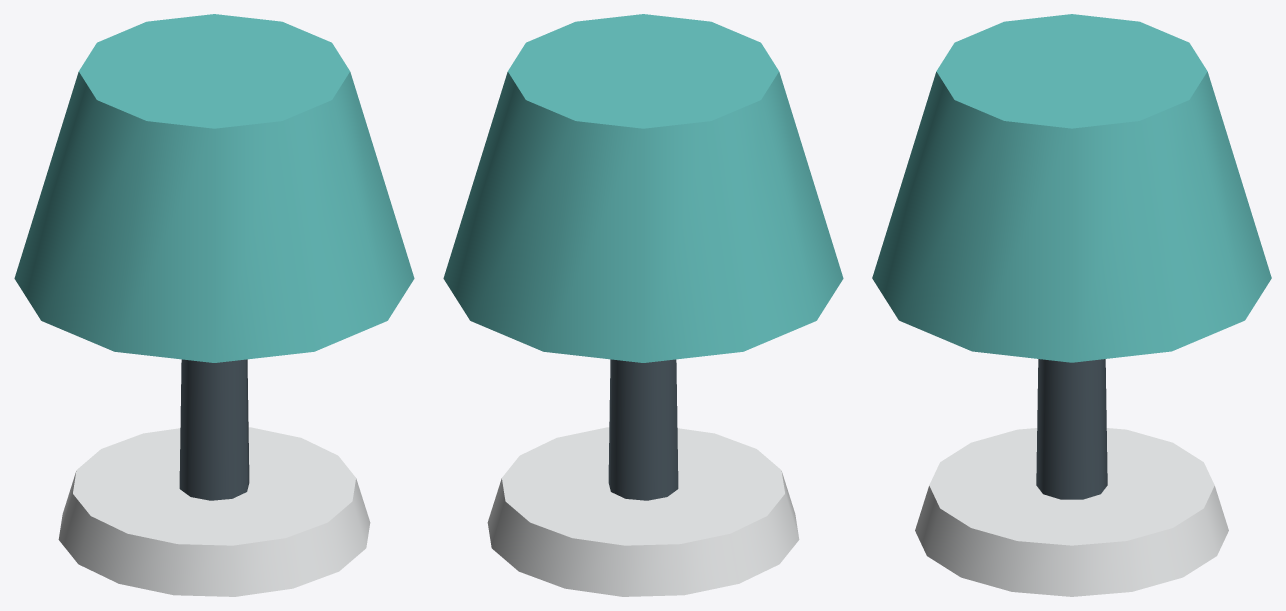
The model's file is living-table-lamp.glb.
The picture shows the model from 3 angles, left to right: view 1: azimuth 30°, elevation 25°; view 2: azimuth 150°, elevation 25°; view 3: azimuth 270°, elevation 25°; orthographic projection.
Visible parts, largest first — view 1: shade, base, stem; view 2: shade, base, stem; view 3: shade, base, stem.
Part boxes in pixels (bbox=[...]): shade: bbox=[14, 14, 414, 362]; base: bbox=[58, 427, 370, 596]; stem: bbox=[179, 359, 249, 500]; shade: bbox=[443, 14, 843, 362]; base: bbox=[487, 427, 799, 596]; stem: bbox=[608, 359, 678, 500]; shade: bbox=[872, 14, 1271, 362]; base: bbox=[915, 428, 1228, 596]; stem: bbox=[1036, 359, 1107, 499].
Bounding box in the file's own units: 0.56 × 0.71 × 0.56.
